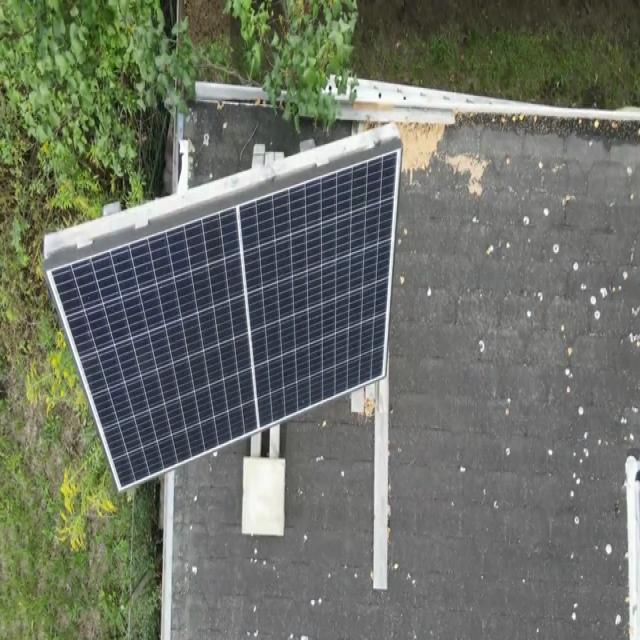Normal Solar Panel: (49, 151, 400, 489)
